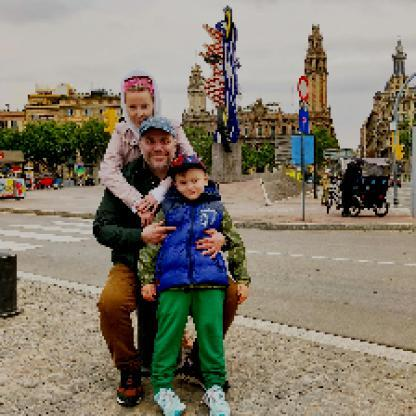child: (138, 153, 252, 415)
